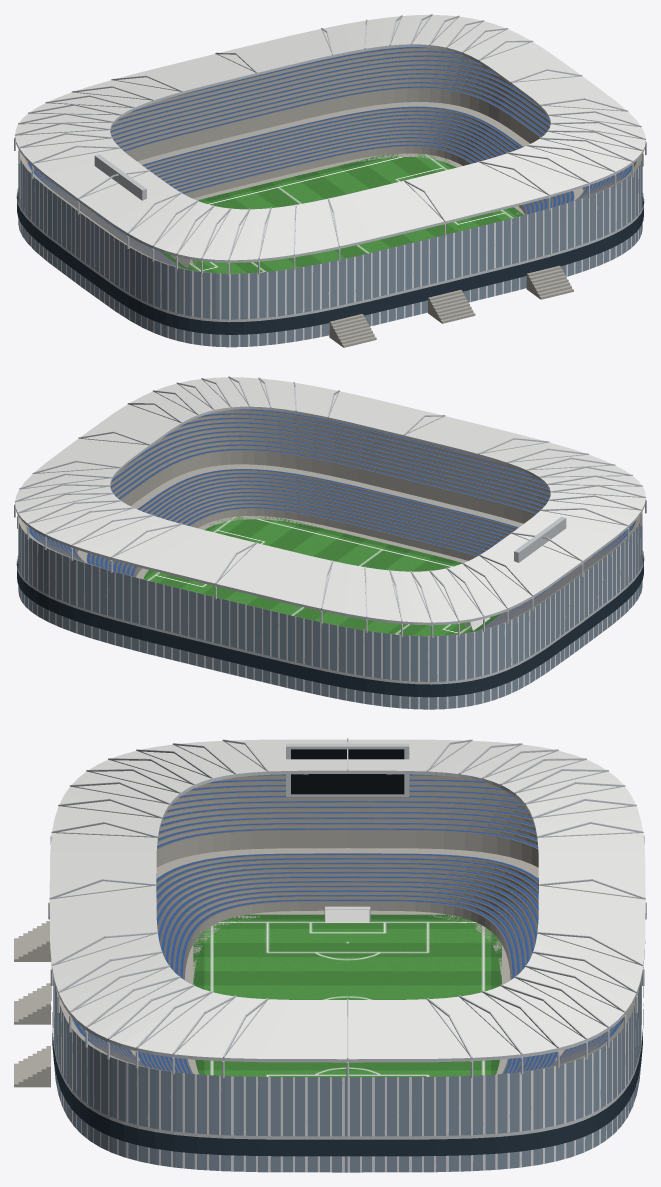
The model's file is stadium.glb.
The picture shows the model from 3 angles, top to bottom: view 1: azimuth 30°, elevation 25°; view 2: azimuth 150°, elevation 25°; view 3: azimuth 270°, elevation 25°; orthographic projection. The views are drawn at different scales.
Parts seen in each view (by area): view 1: std_d_pitch.001; view 2: std_d_pitch.001; view 3: std_d_pitch.001.
Part boxes in pixels (x1,y1,x2,y2): std_d_pitch.001: (14,14,646,347); std_d_pitch.001: (14,376,646,709); std_d_pitch.001: (14,738,646,1172).
Size of the model in its own units: 123 by 24.35 by 103.
9 materials, 3 textured.
